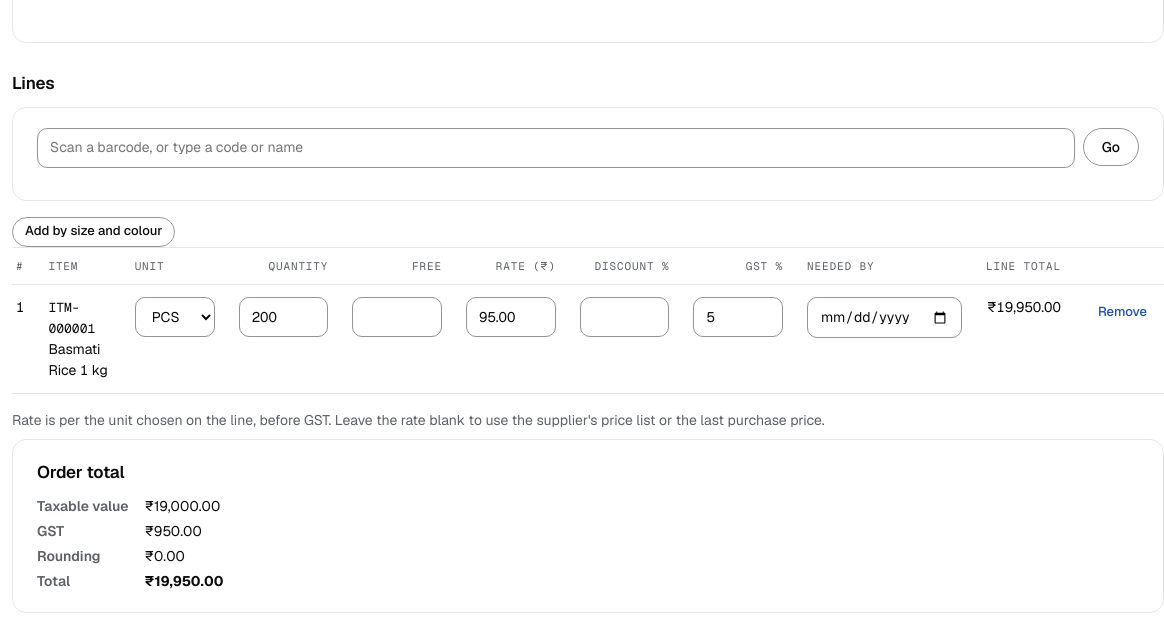
OrdersEditor › shows a clearly marked estimate while editing and the server's total otherwise
The width and height of the screenshot is (1164, 629).
(page scrolled)
Expected: the text "estimate" is not shown
Replace the text in the field named "Rate per PCS for line 1" with "90" at (511, 317), box 466,297 -> 556,337
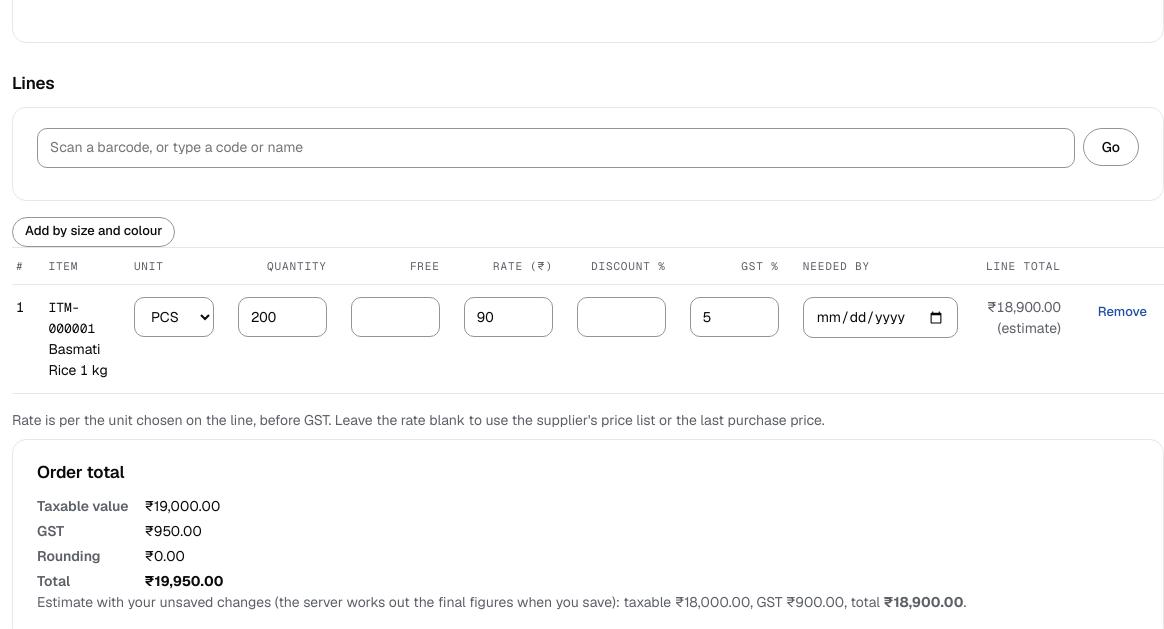
Type "10" into the field named "Discount percent for line 1" at (621, 317), box 577,297 -> 666,337
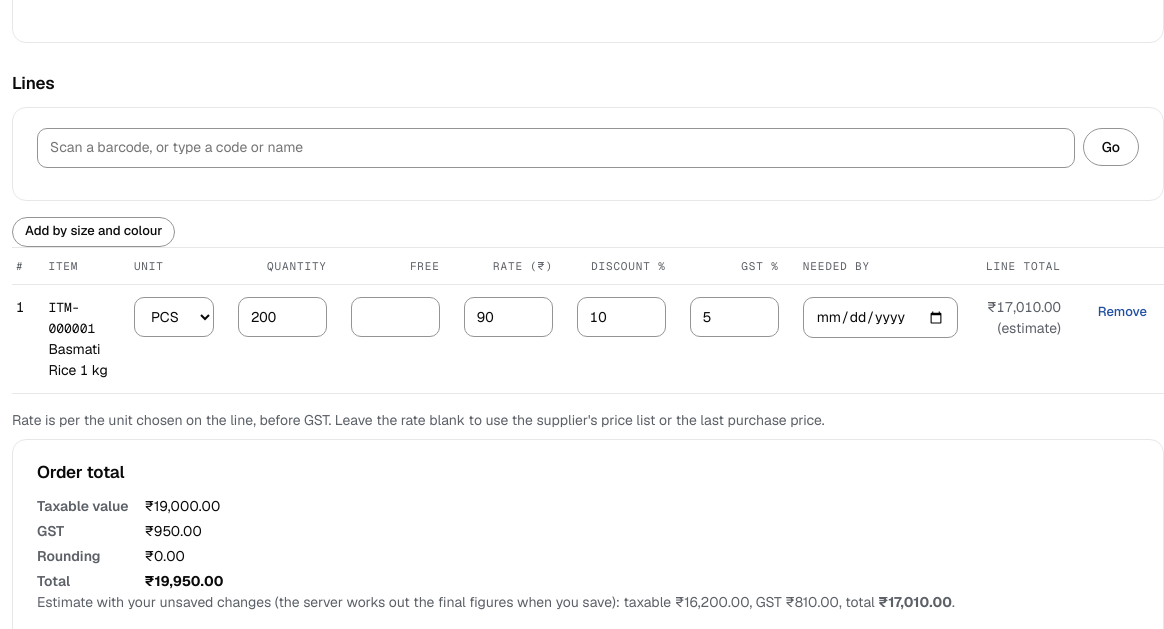
Expected: the text "₹17,010.00 (estimate)" is shown, 987,298 -> 1061,337
Expected: the element named "Estimate of your changes" shows "taxable ₹16,200.00", 37,593 -> 955,611
Expected: the element named "Estimate of your changes" shows "GST ₹810.00", 37,593 -> 955,611
